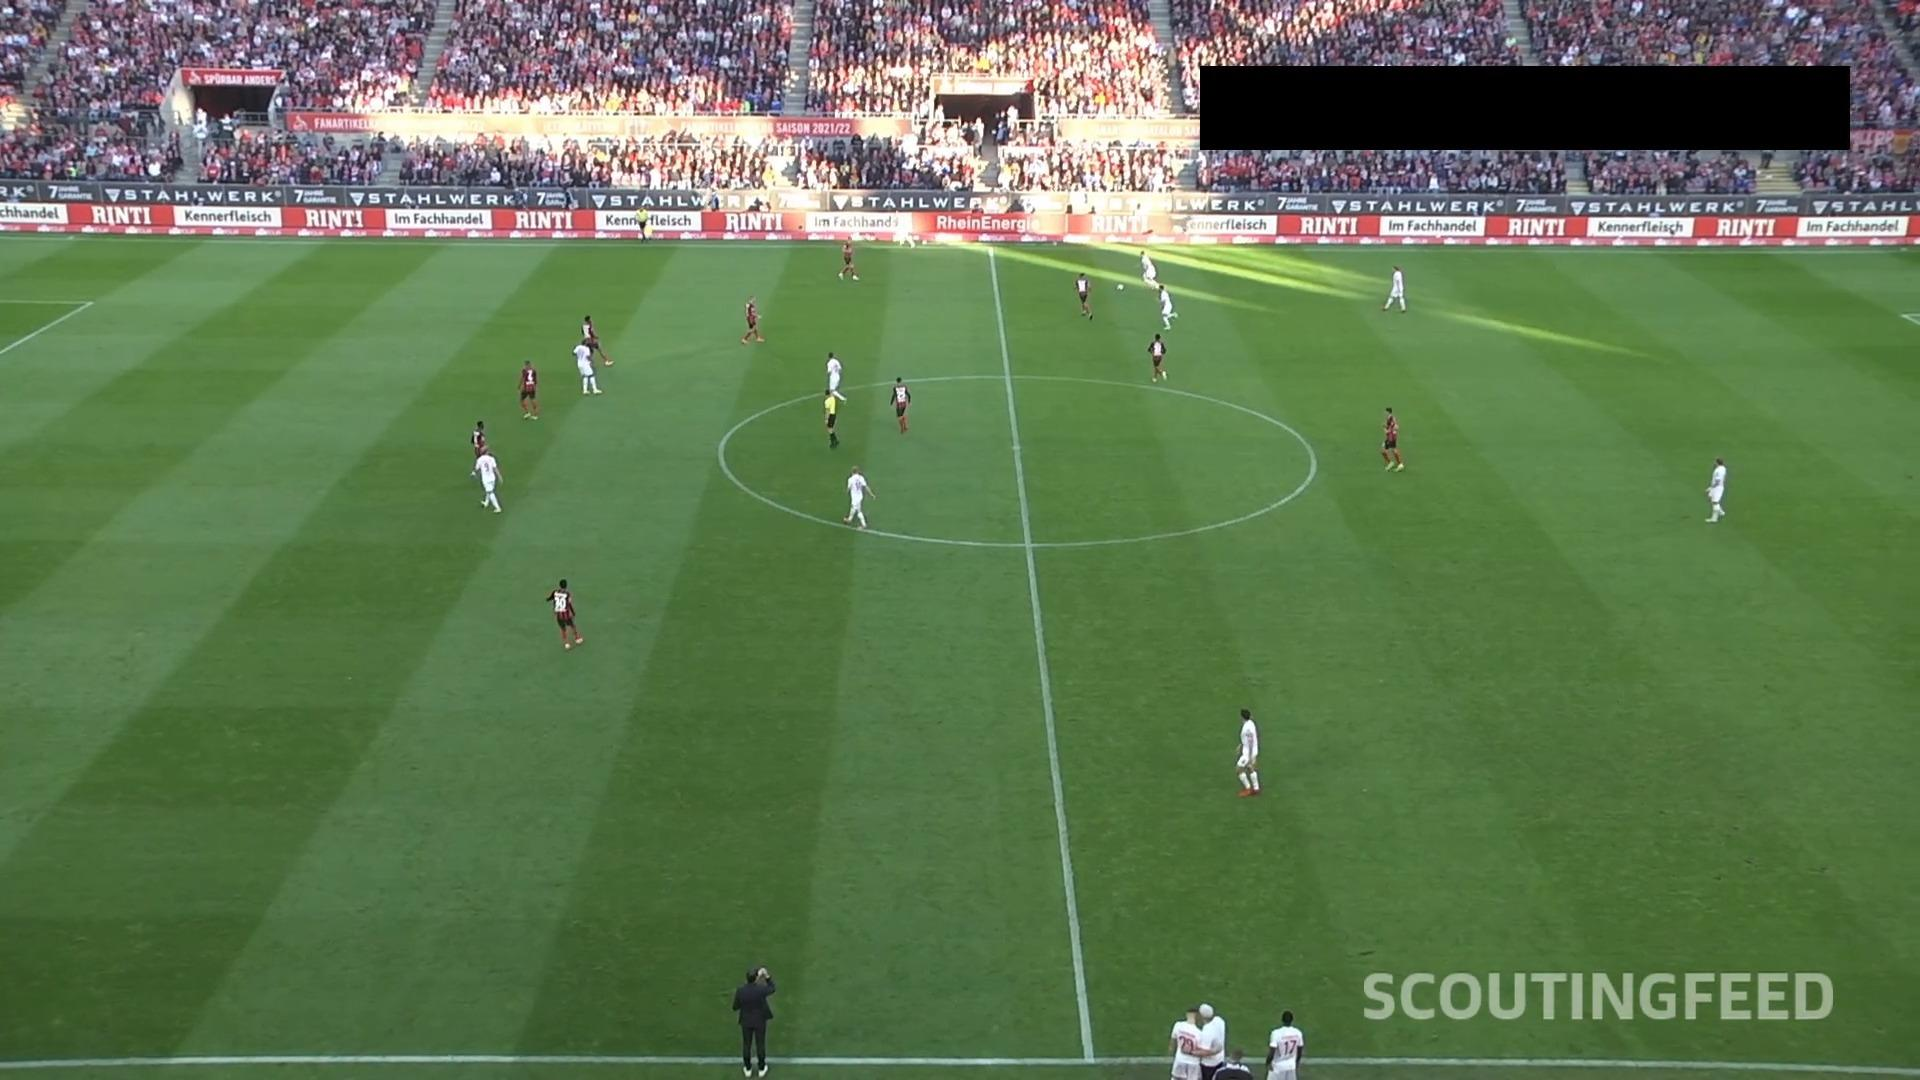ball: (1117, 284, 1125, 291)
